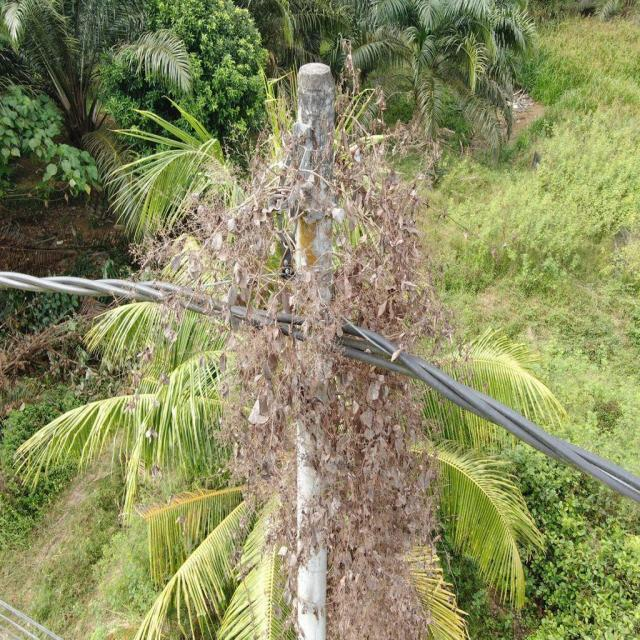critical vegetation: (181, 97, 435, 631)
